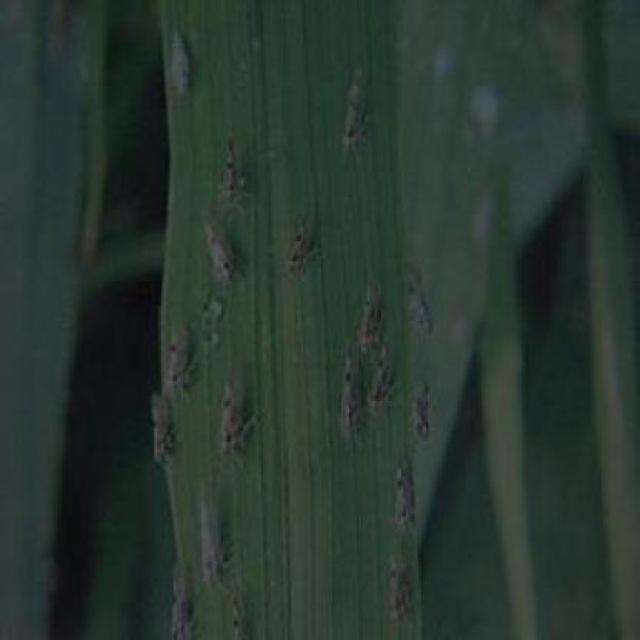brown-planthopper: (191, 496, 227, 590), (216, 374, 253, 463), (342, 71, 375, 169), (286, 207, 326, 278), (356, 281, 390, 354), (217, 133, 246, 218), (143, 393, 177, 464), (168, 328, 200, 402), (199, 220, 236, 282), (369, 355, 405, 417), (408, 262, 435, 340), (163, 28, 191, 98), (337, 358, 361, 439), (384, 558, 414, 620), (394, 456, 415, 535)
